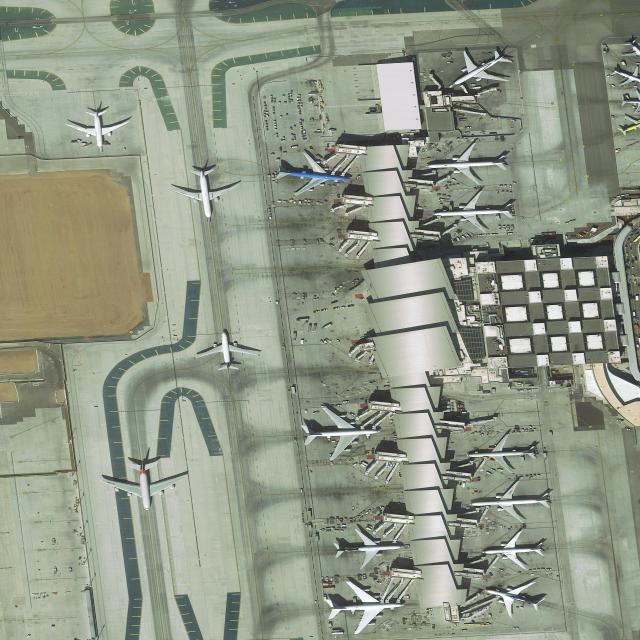large-vehicle: (634, 324, 640, 330), (635, 296, 639, 301)
plane: (427, 40, 529, 101), (94, 457, 193, 515), (296, 404, 385, 464), (320, 579, 408, 637), (424, 187, 519, 237), (463, 477, 556, 527), (270, 151, 360, 200), (166, 167, 246, 221), (471, 572, 555, 623), (420, 141, 511, 188), (461, 432, 542, 477), (328, 526, 407, 571), (189, 329, 263, 373), (62, 109, 135, 153), (477, 529, 550, 572)
small-vehicle: (25, 633, 32, 639), (576, 233, 584, 238), (485, 471, 493, 475), (71, 368, 77, 373), (461, 235, 467, 240), (469, 232, 475, 237), (349, 412, 356, 416), (367, 524, 374, 528), (290, 146, 298, 149), (330, 237, 336, 241), (329, 243, 335, 247), (498, 568, 504, 572), (602, 48, 606, 54), (583, 230, 589, 234), (496, 468, 504, 471), (512, 181, 518, 185), (321, 309, 328, 312), (313, 310, 320, 313), (511, 119, 518, 122), (580, 232, 587, 235), (379, 506, 386, 509), (416, 207, 423, 210), (391, 432, 396, 436), (51, 539, 55, 544), (53, 567, 57, 572), (68, 567, 72, 572), (518, 70, 523, 74), (635, 231, 640, 235), (628, 234, 633, 238), (631, 274, 636, 278), (491, 468, 496, 472), (446, 237, 451, 241), (450, 239, 455, 243), (453, 238, 458, 242), (456, 237, 461, 241), (495, 190, 500, 194), (341, 306, 347, 309), (363, 334, 369, 337), (352, 463, 358, 466), (376, 581, 382, 584), (348, 304, 354, 307), (76, 139, 82, 142), (450, 178, 456, 181), (446, 181, 452, 184), (449, 431, 453, 435), (337, 339, 341, 343), (325, 338, 329, 342), (389, 463, 393, 467), (336, 517, 340, 521), (321, 577, 325, 581), (454, 623, 458, 627), (488, 613, 492, 617), (629, 247, 633, 251), (631, 253, 635, 257), (506, 233, 514, 235), (352, 506, 355, 511), (330, 577, 333, 582), (407, 595, 410, 600), (316, 239, 319, 244), (627, 238, 630, 243), (634, 281, 637, 286), (630, 294, 633, 299), (343, 401, 350, 403), (333, 307, 340, 309), (81, 143, 88, 145), (447, 61, 454, 63), (464, 132, 471, 134), (454, 416, 461, 418), (459, 414, 466, 416), (460, 412, 467, 414), (457, 405, 464, 407), (477, 235, 484, 237), (491, 233, 498, 235), (329, 340, 332, 344), (359, 337, 365, 339), (320, 405, 326, 407), (294, 438, 297, 442), (300, 489, 303, 493), (353, 518, 356, 522), (315, 600, 318, 604), (461, 630, 467, 632), (359, 298, 365, 300), (123, 147, 126, 151), (269, 215, 272, 219), (303, 240, 307, 243), (276, 301, 279, 305), (427, 608, 433, 610), (465, 126, 471, 128), (486, 243, 489, 247), (629, 242, 632, 246), (625, 245, 628, 249), (632, 266, 635, 270), (635, 256, 638, 260), (631, 260, 635, 263), (629, 279, 632, 283), (636, 317, 639, 321), (635, 334, 638, 338), (514, 526, 518, 529), (500, 525, 503, 529), (518, 390, 524, 392), (484, 234, 490, 236), (514, 627, 519, 629), (526, 390, 531, 392), (305, 410, 308, 413), (636, 345, 639, 348), (482, 615, 485, 618), (422, 149, 425, 152), (626, 252, 628, 256), (633, 295, 635, 299), (393, 463, 395, 467), (398, 464, 400, 468), (335, 405, 342, 406), (510, 185, 512, 188)
